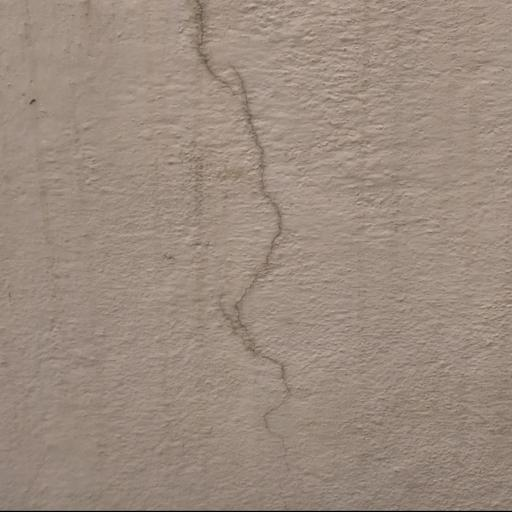minor_crack: (189, 0, 305, 512)
